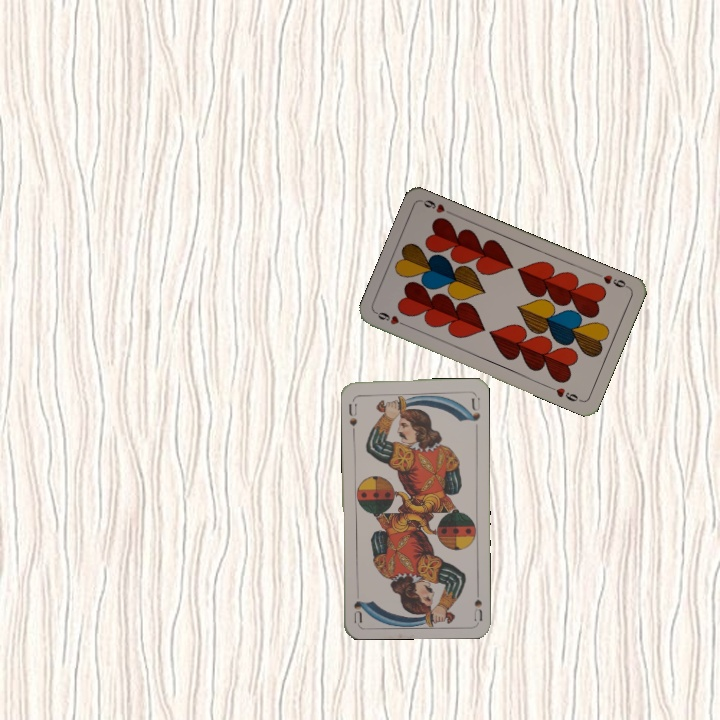H9: (592, 269, 631, 291), (372, 308, 411, 330)
SU: (470, 582, 485, 622), (345, 400, 359, 434)
